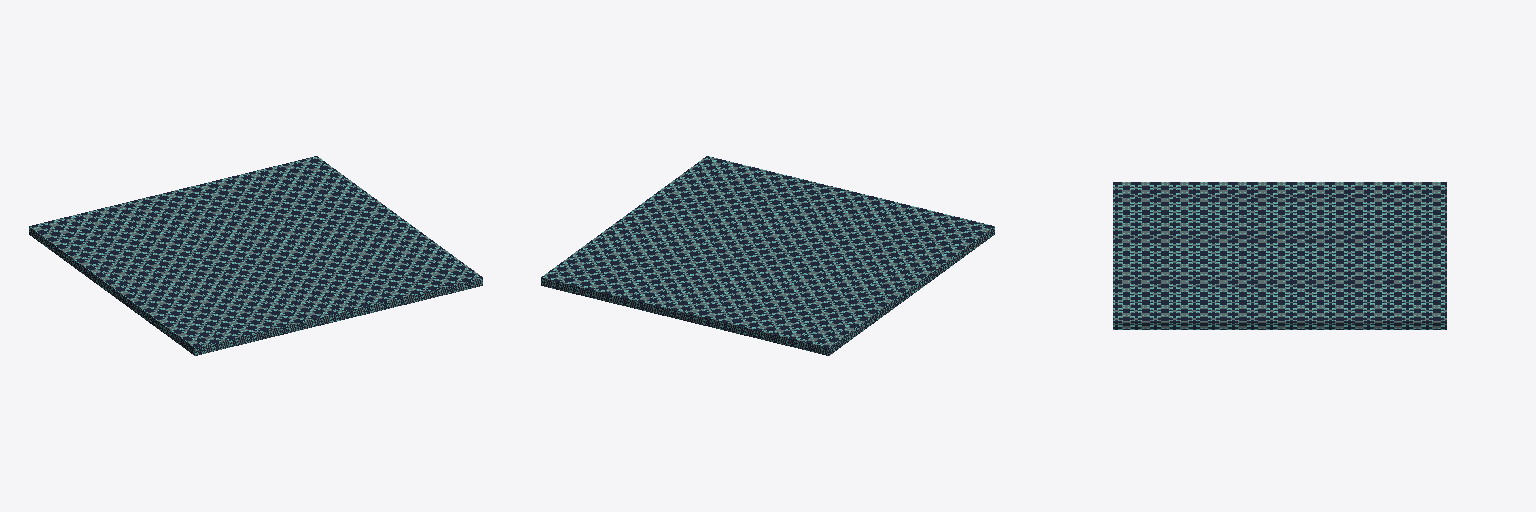
3 renders of one model, left to right at view 1: azimuth 30°, elevation 25°; view 2: azimuth 150°, elevation 25°; view 3: azimuth 270°, elevation 25°, orthographic.
Visible parts, largest first — view 1: Cube_Material.001; view 2: Cube_Material.001; view 3: Cube_Material.001.
Part boxes in pixels (left/top/right/bottom): Cube_Material.001: left=29, top=156, right=482, bottom=355; Cube_Material.001: left=541, top=156, right=994, bottom=355; Cube_Material.001: left=1113, top=182, right=1446, bottom=329.
Size of the model in its own units: 5.62 by 0.1484 by 5.62.
Materials: 1 (1 with a texture image).